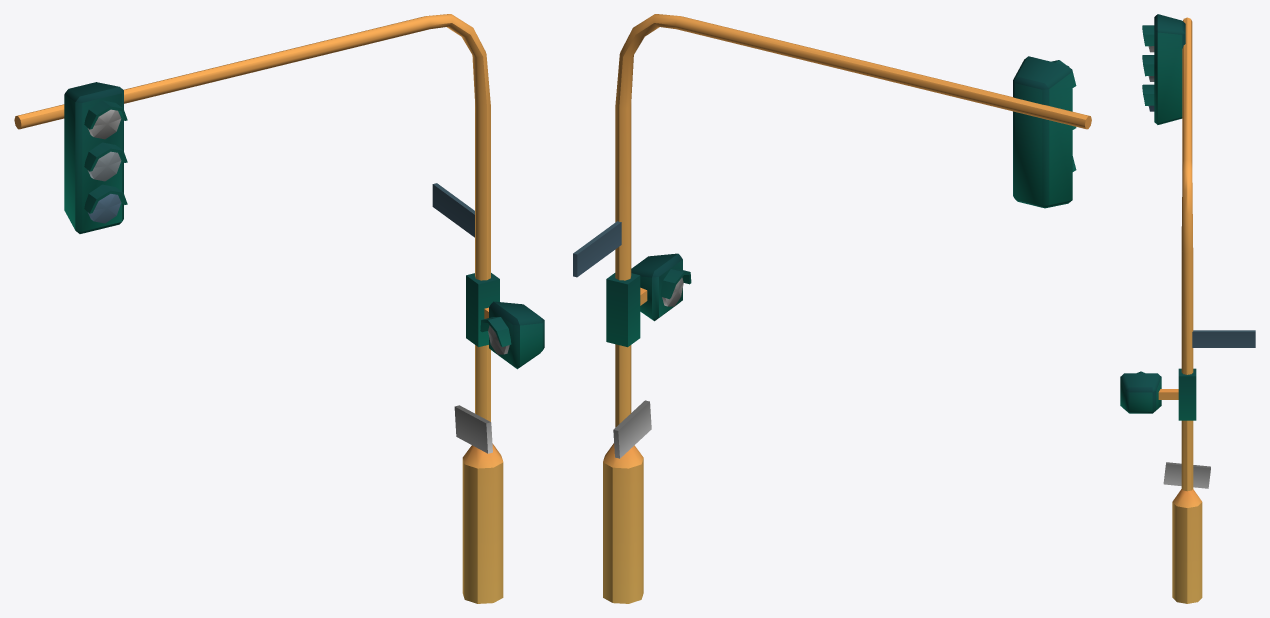
File: trafficlight.obj
3 views of the same model, side by side, from view 1: azimuth 30°, elevation 25°; view 2: azimuth 150°, elevation 25°; view 3: azimuth 270°, elevation 25° (orthographic). The views are drawn at different scales.
Parts seen in each view (by area): view 1: trafficlight_C_Cylinder.161; view 2: trafficlight_C_Cylinder.161; view 3: trafficlight_C_Cylinder.161.
Boxes of the visible parts, bbox=[...] form: trafficlight_C_Cylinder.161: bbox=[14, 14, 544, 603]; trafficlight_C_Cylinder.161: bbox=[573, 14, 1091, 603]; trafficlight_C_Cylinder.161: bbox=[1120, 14, 1255, 603].
Size of the model in its own units: 0.7977 by 0.9695 by 0.2716.
